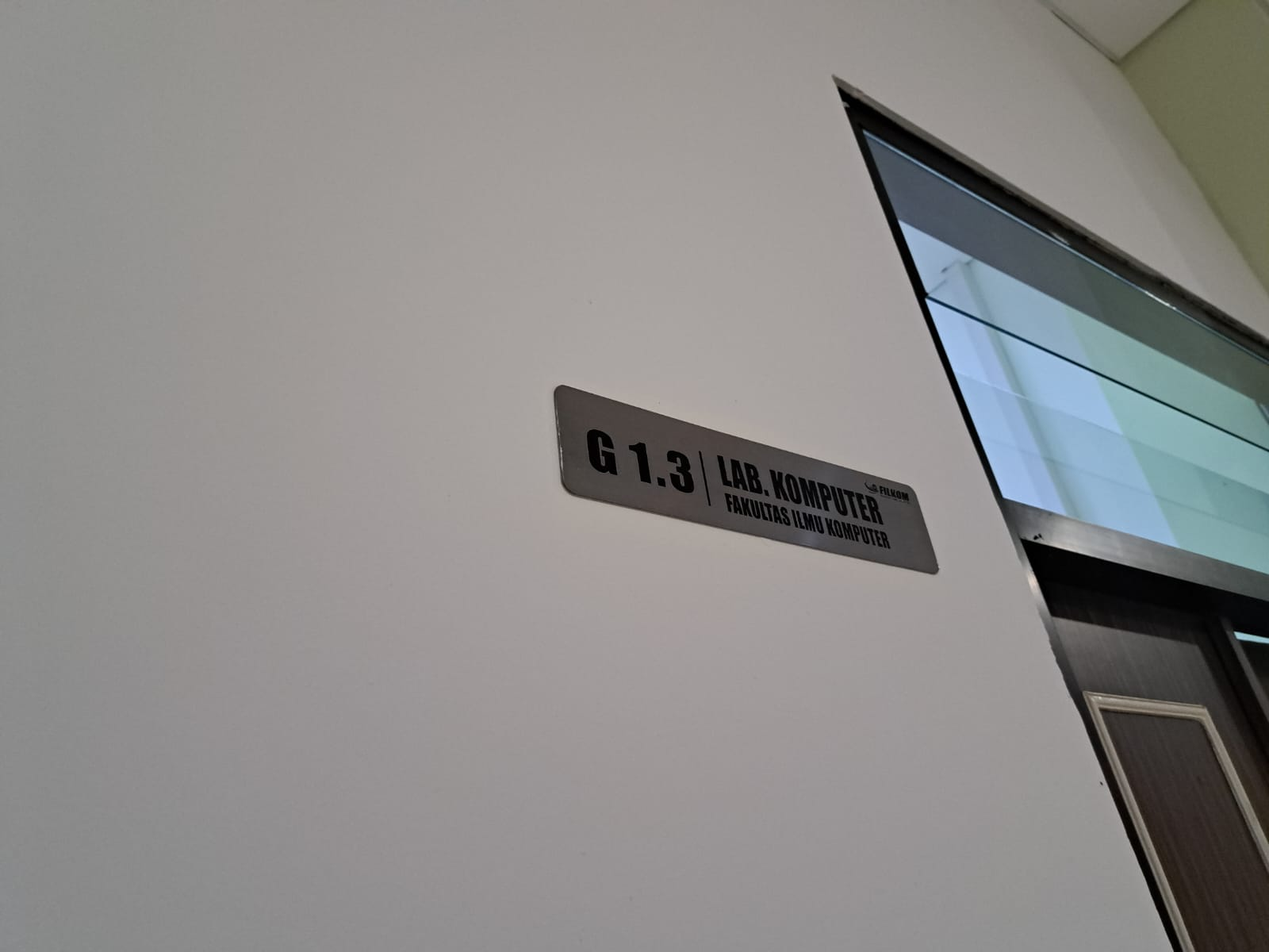ruangan: (541, 373, 947, 581)
